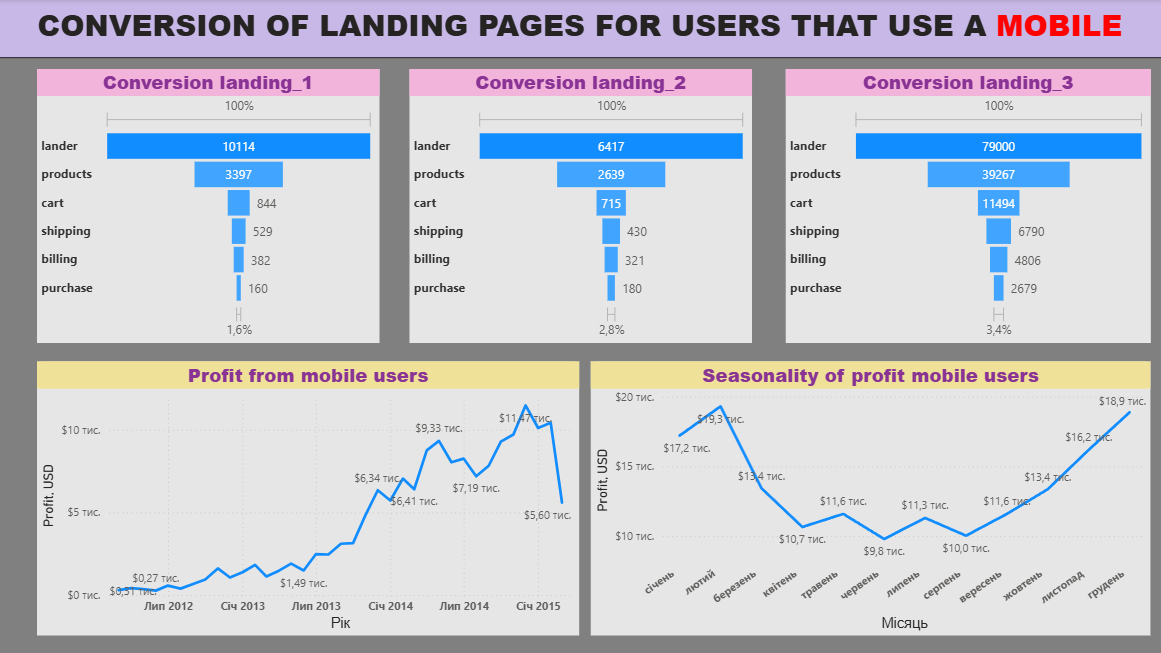

Layout of this report page (visuals, bound fields, positions):
{"tool":"powerbi","page":{"name":"Landing mobile","canvas":[1280,720],"ordinal":3},"visuals":[{"type":"funnel","title":"Conversion landing_1","fields":{"Y":["Sum(Sheet1.lander)","Sum(Sheet1./products)","Sum(Sheet1./cart)","Sum(Sheet1./shipping)","Sum(Sheet1.billing)","Sum(Sheet1.purchase)"]},"box":[43.9,76.8,376,300.5],"z":0},{"type":"funnel","title":"Conversion landing_2","fields":{"Y":["Sum(Sheet1.lander)","Sum(Sheet1./products)","Sum(Sheet1./cart)","Sum(Sheet1./shipping)","Sum(Sheet1.billing)","Sum(Sheet1.purchase)"]},"box":[452.8,76.8,376,300.5],"z":1000},{"type":"funnel","title":"Conversion landing_3","fields":{"Y":["Sum(Sheet1.lander)","Sum(Sheet1./products)","Sum(Sheet1./cart)","Sum(Sheet1./shipping)","Sum(Sheet1.billing)","Sum(Sheet1.purchase)"]},"box":[865.9,76.8,376,300.5],"z":2000},{"type":"textbox","box":[0,0,1280.3,64.5],"z":3000},{"type":"lineChart","title":"Profit from mobile users","fields":{"Category":["orders_profit_usd.created_at_order.Варіація.Ієрархія дат.Рік","orders_profit_usd.created_at_order.Варіація.Ієрархія дат.Місяць"],"Y":["Sum(orders_profit_usd.profit)"]},"box":[43.9,397.9,595.5,300.5],"z":4000},{"type":"lineChart","title":"Seasonality of profit mobile users","fields":{"Category":["orders_profit_usd.created_at_order.Варіація.Ієрархія дат.Місяць","orders_profit_usd.created_at_order.Варіація.Ієрархія дат.День"],"Y":["Sum(orders_profit_usd.profit)"]},"box":[651.8,397.9,614.8,300.5],"z":5000}]}

Visuals, with their boxes in screenshot pixels (x1, y1, x2, y2), scaled from the page's 1280x720 canvas onto the 1161x653 screenshot:
"Conversion landing_1" funnel: bbox=(40, 70, 381, 342)
"Conversion landing_2" funnel: bbox=(411, 70, 752, 342)
"Conversion landing_3" funnel: bbox=(785, 70, 1126, 342)
textbox: bbox=(0, 0, 1160, 58)
"Profit from mobile users" lineChart: bbox=(40, 361, 580, 633)
"Seasonality of profit mobile users" lineChart: bbox=(591, 361, 1149, 633)
